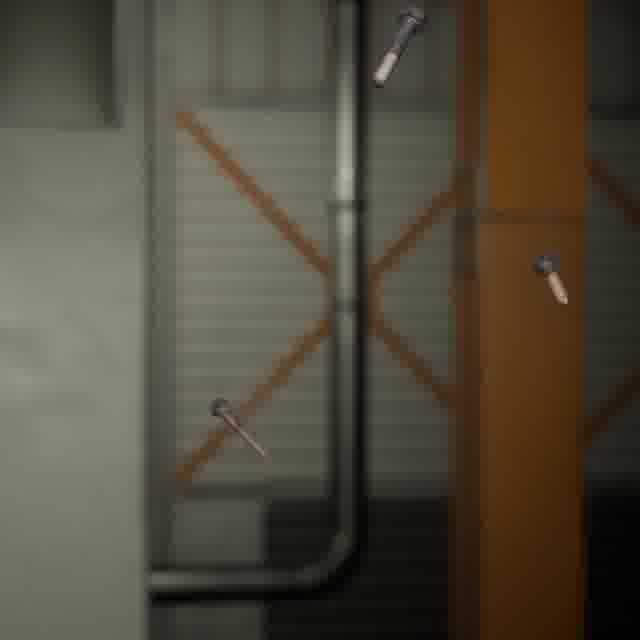bolt: (367, 3, 430, 93), (204, 392, 275, 465), (527, 247, 575, 310)
